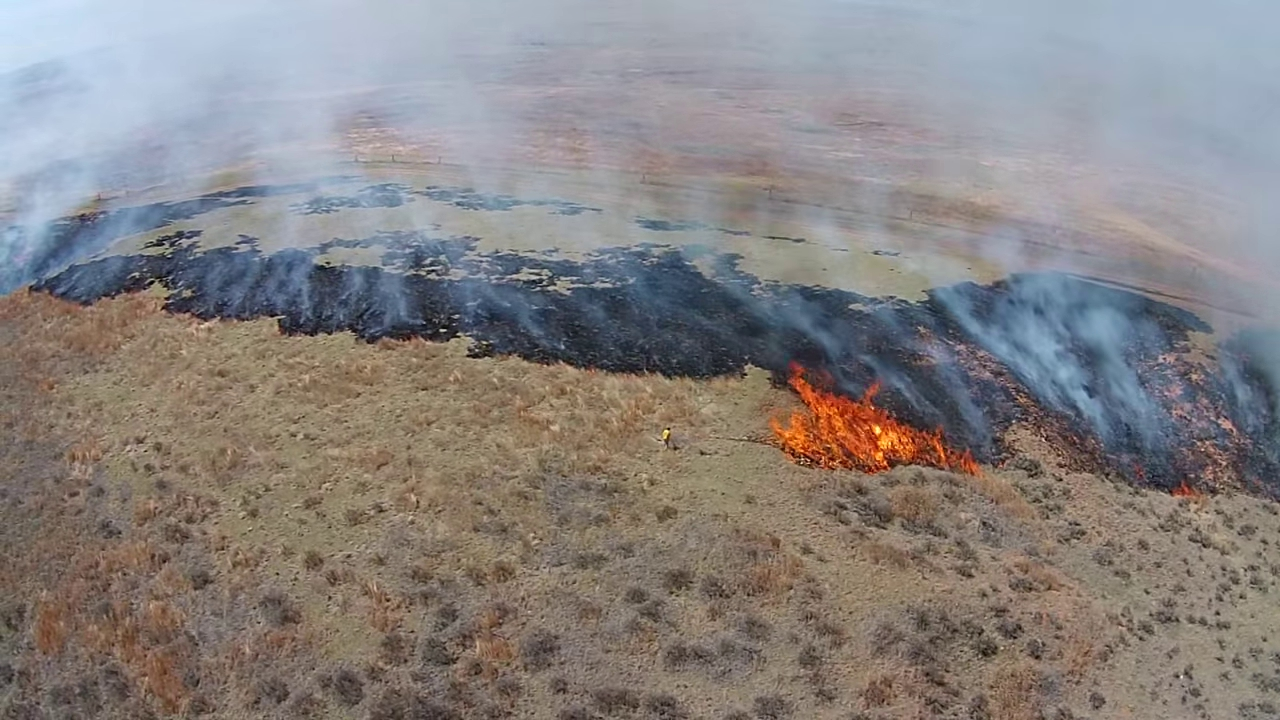forest_fire: (770, 364, 979, 473)
